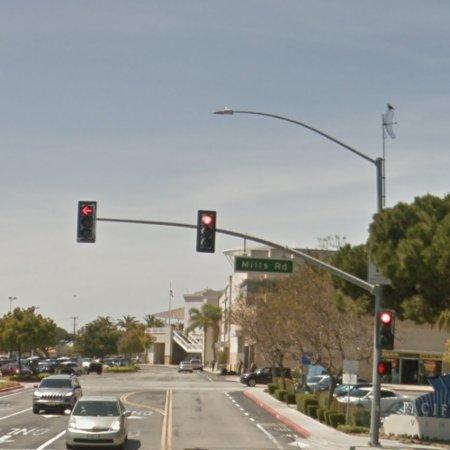cars: (66, 397, 130, 450), (32, 376, 82, 414)
